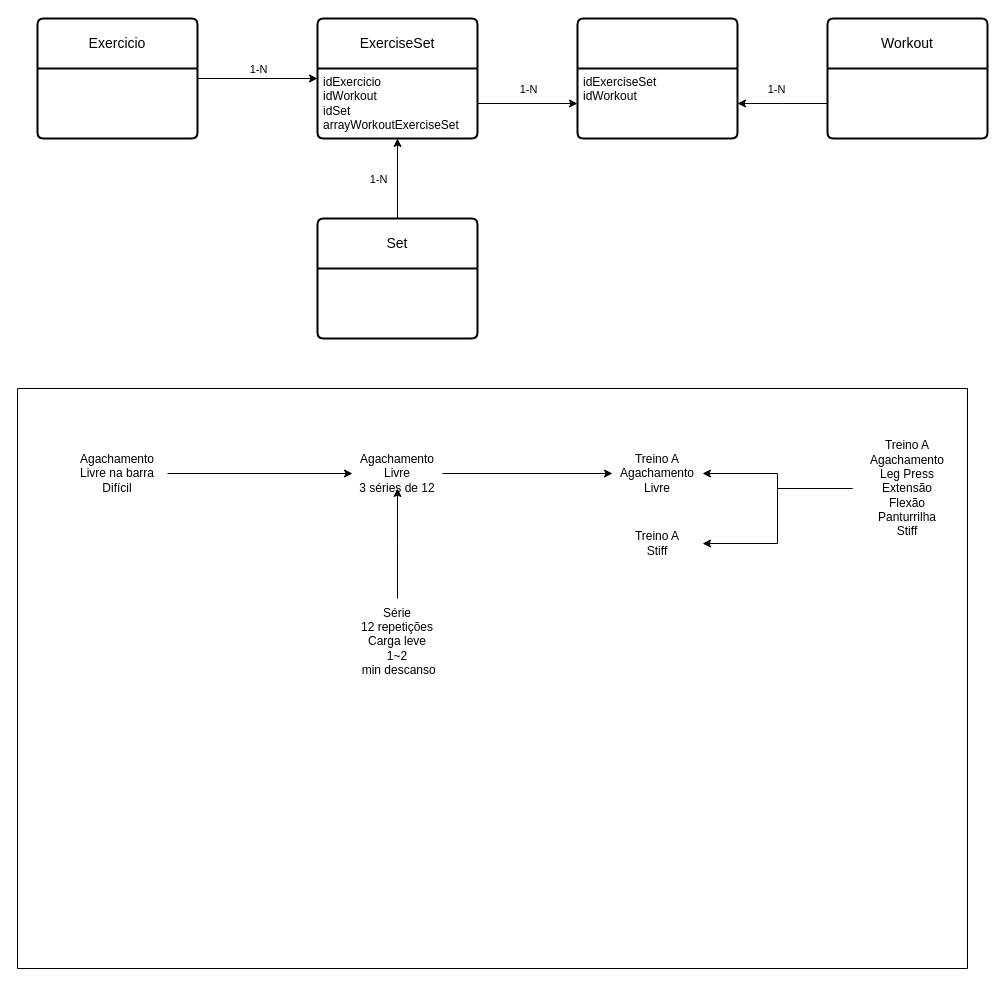
This 1006x1006 diagram has some shape labels left out. Each missing label, with the box of its shape:
dd: (16, 388, 968, 968)
WorkoutExerciseSet: (576, 17, 738, 139)
